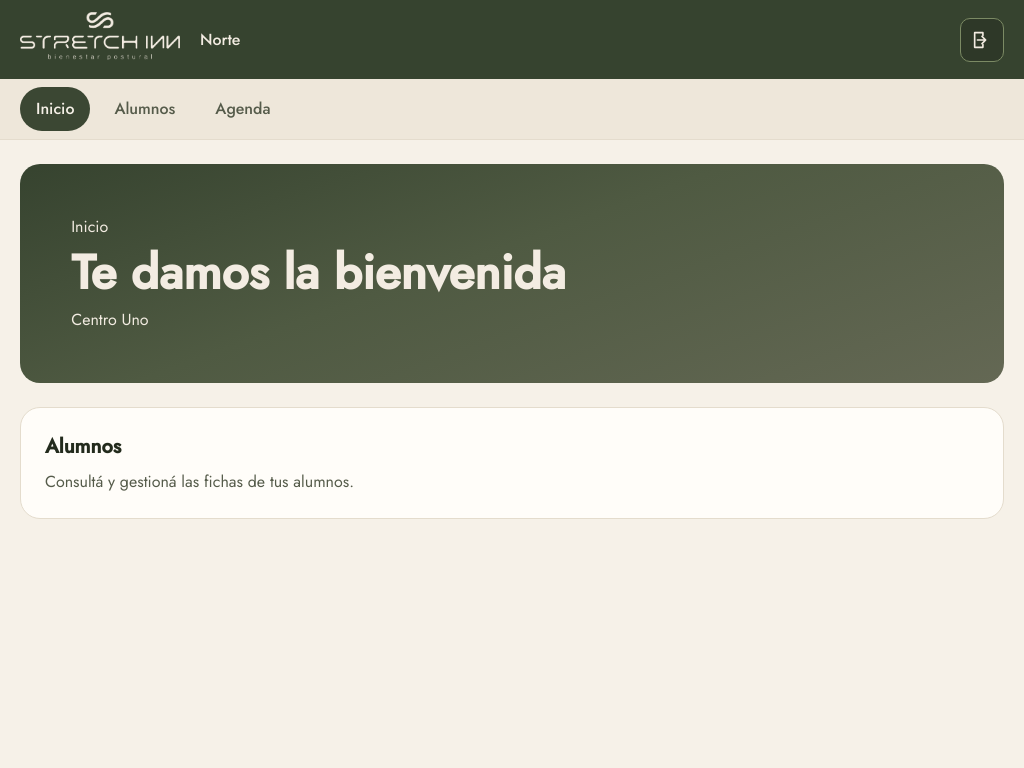
Test case: si la API rechaza la inscripción, deja al alumno elegido y muestra el motivo
Click the link "Agenda" at coordinates (243, 109), box [215,97,270,120]
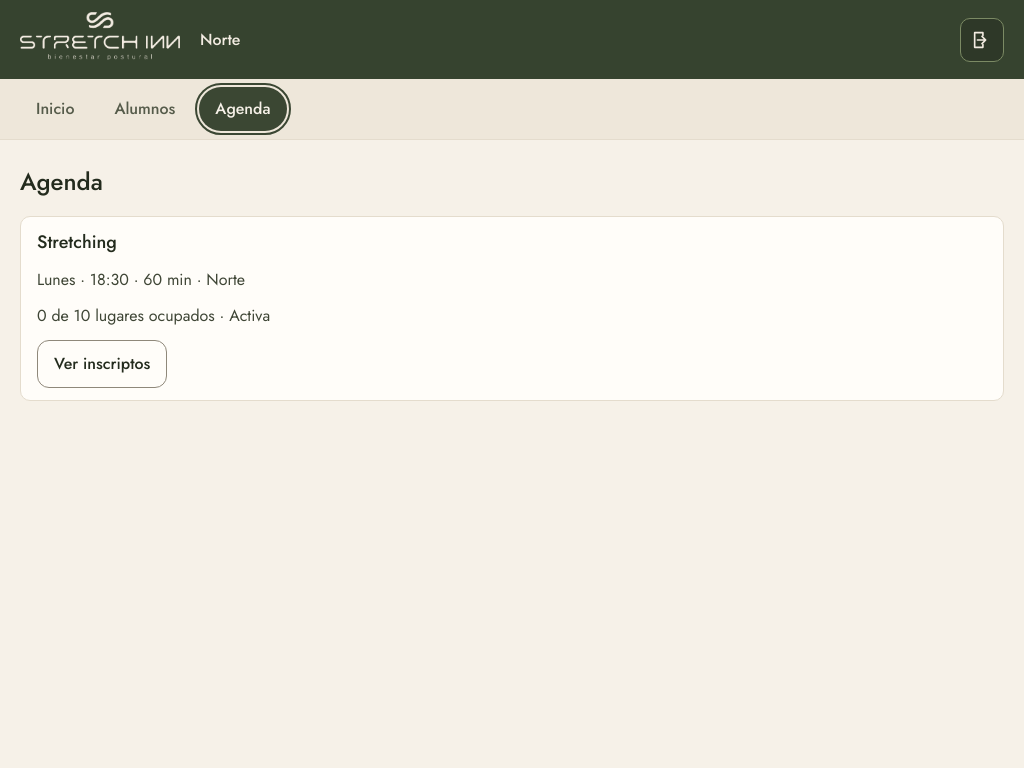
Click the button "Ver inscriptos" at coordinates (102, 364), box [37,340,167,388]
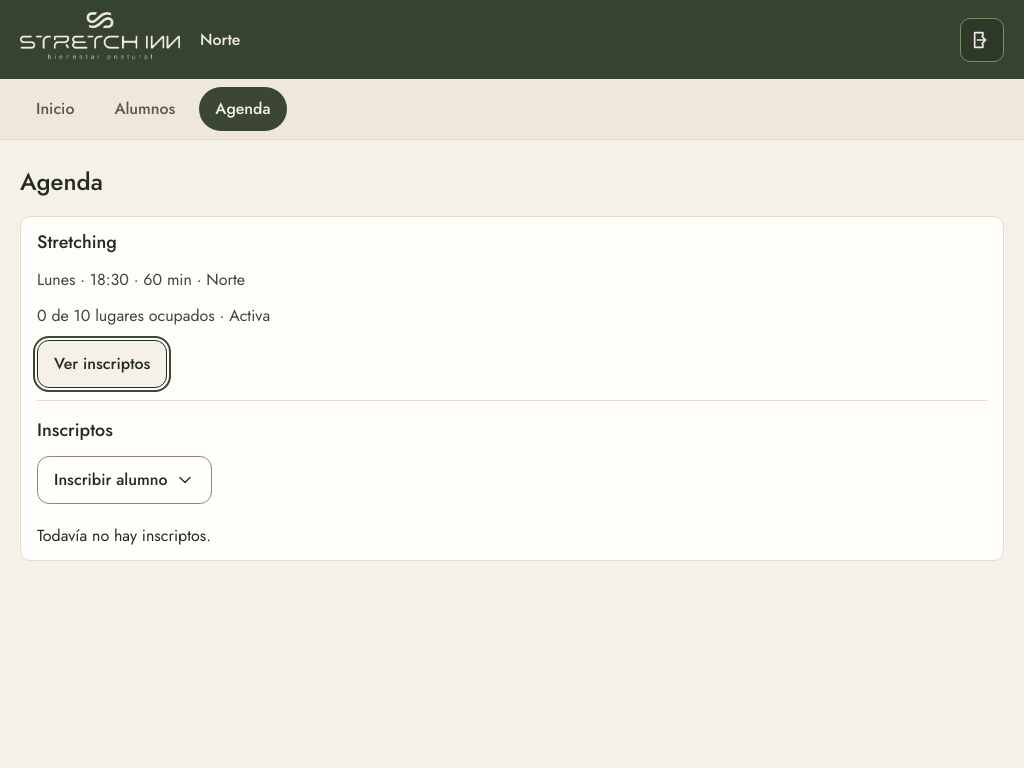
Click the heading "Inscribir alumno" at coordinates (125, 480), box [37,456,212,504]
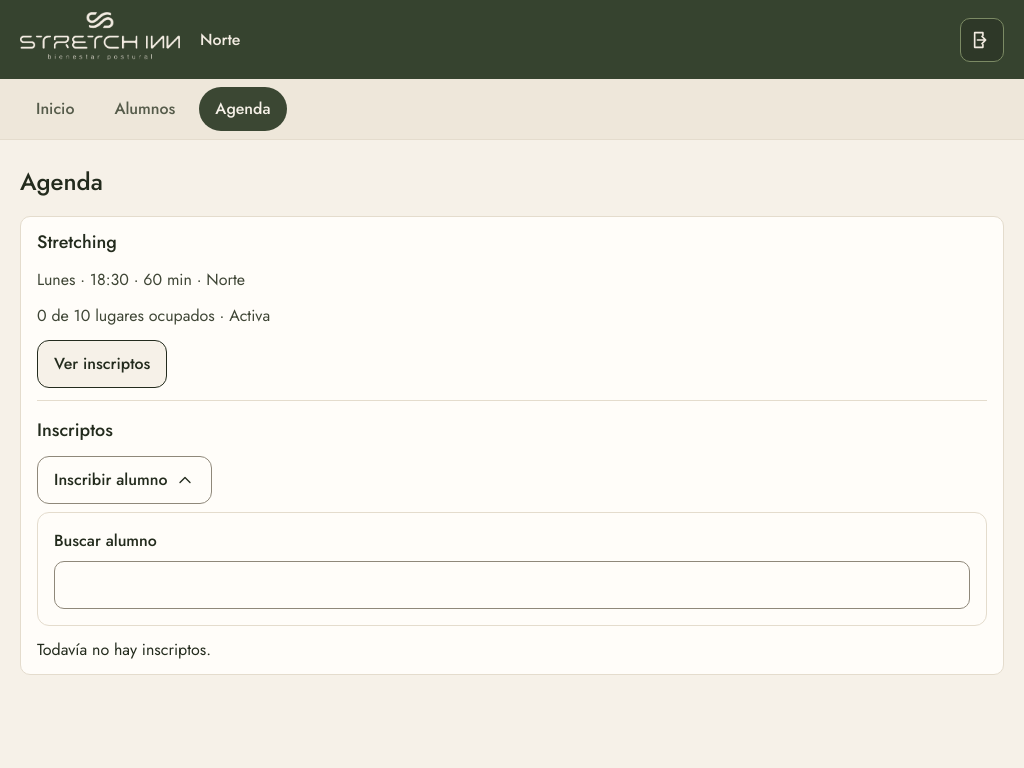
Type "Ana" into the search field labelled "Buscar alumno" at coordinates (512, 585), box [54,561,970,609]
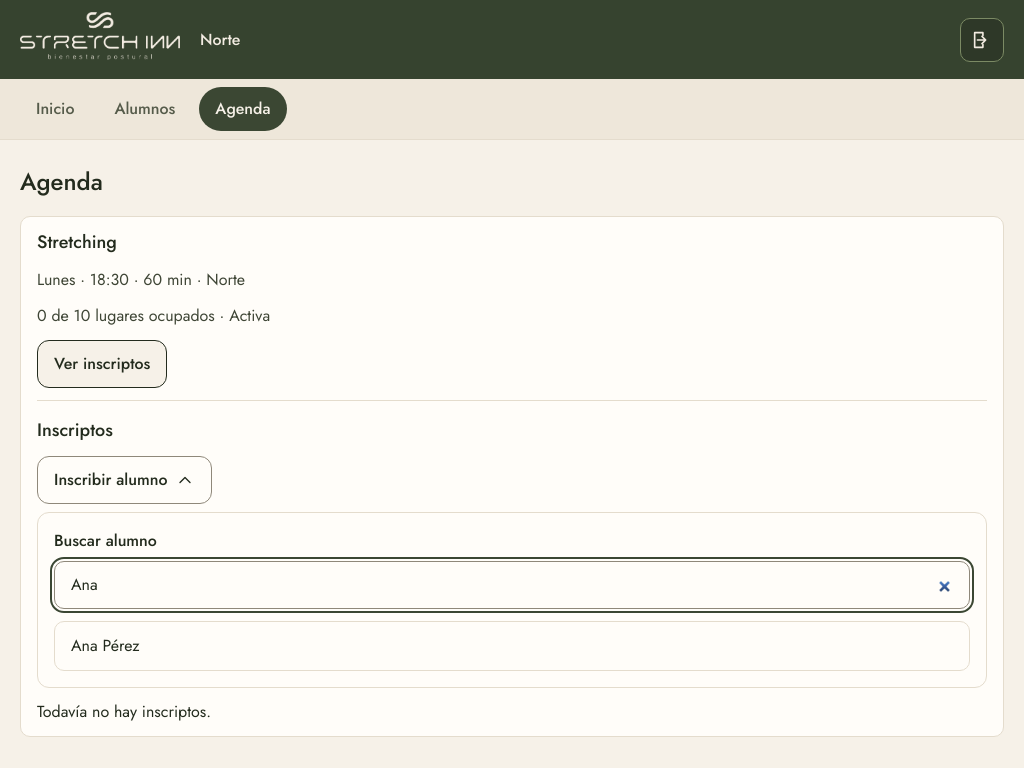
Click the button "Ana Pérez" at coordinates (121, 646), box [55,622,969,670]
(page scrolled)
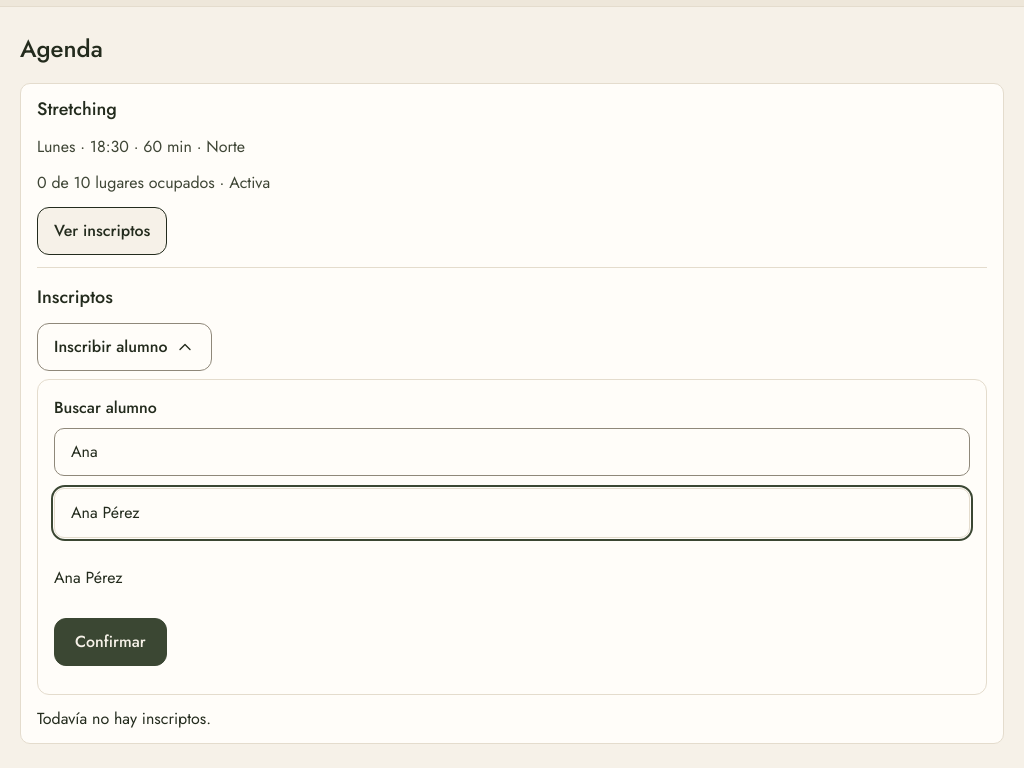
Click the button "Confirmar" at coordinates (110, 642), box [54,618,167,666]
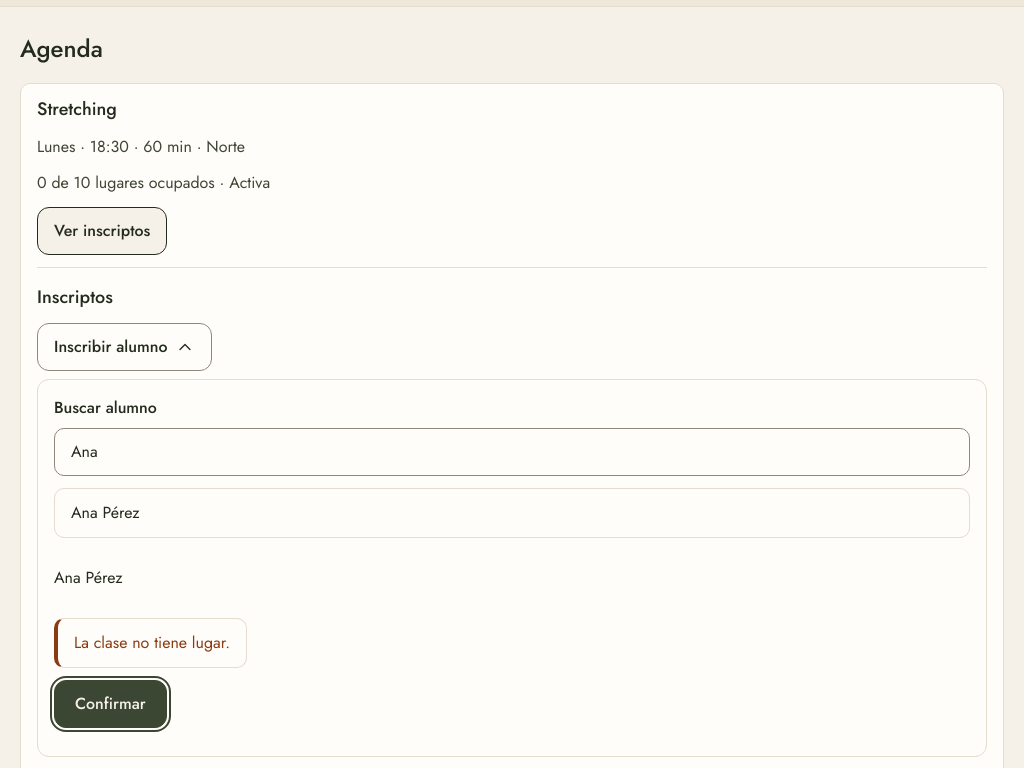
expect the button "Confirmar" is shown: met, box [54,680,167,728]
expect the text "La clase no tiene lugar." is shown: met, box [54,618,247,668]
